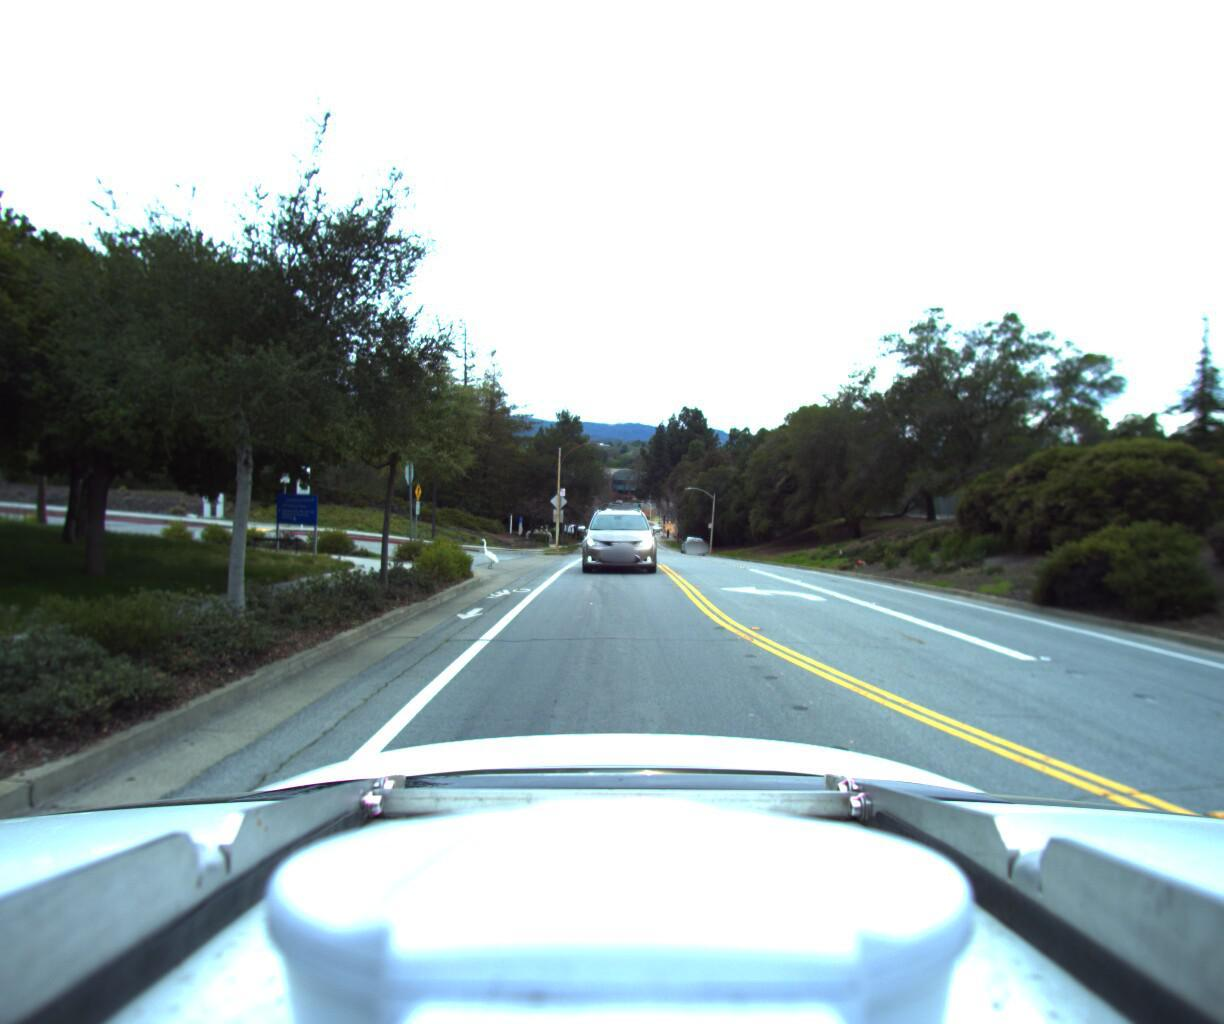car: (576, 494, 656, 573), (675, 528, 702, 551)
